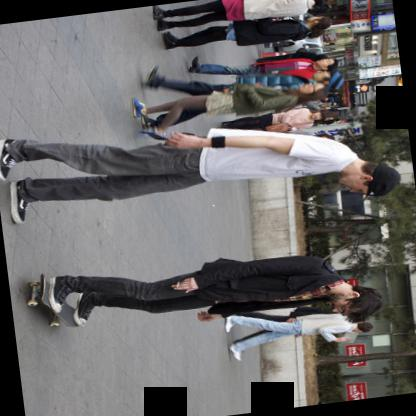handbag: (262, 122, 289, 132)
